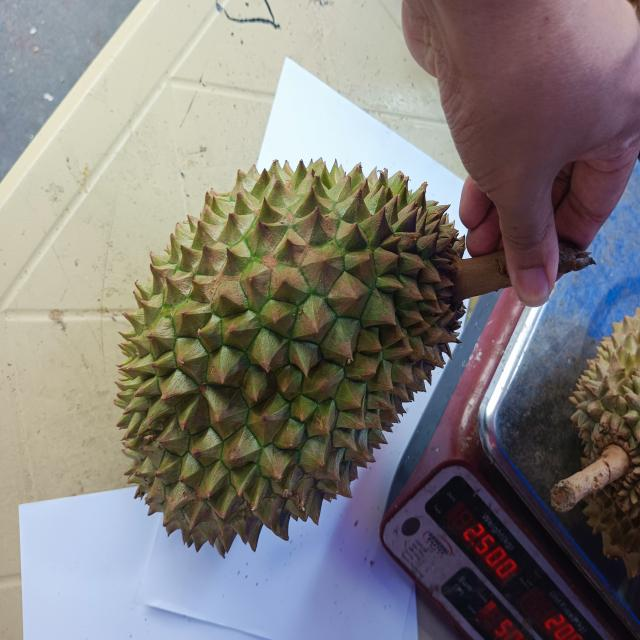mature: (114, 156, 467, 554), (560, 305, 640, 568)
